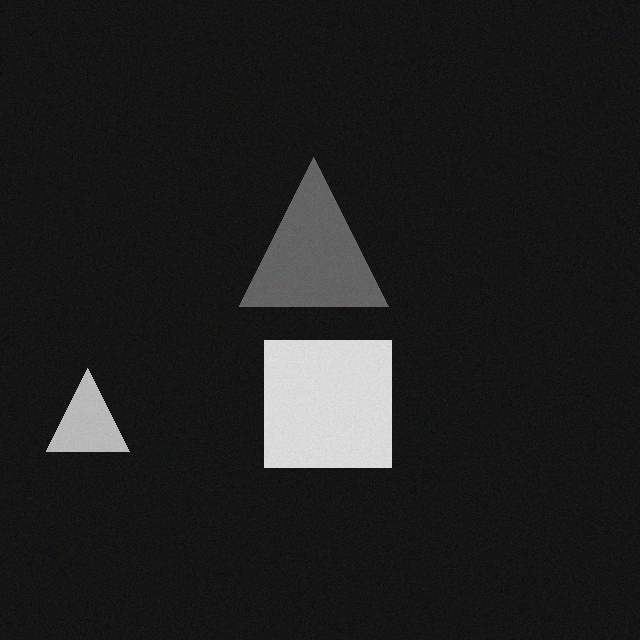square: (273, 326, 400, 453)
triangle: (248, 143, 397, 292), (55, 354, 138, 437)
